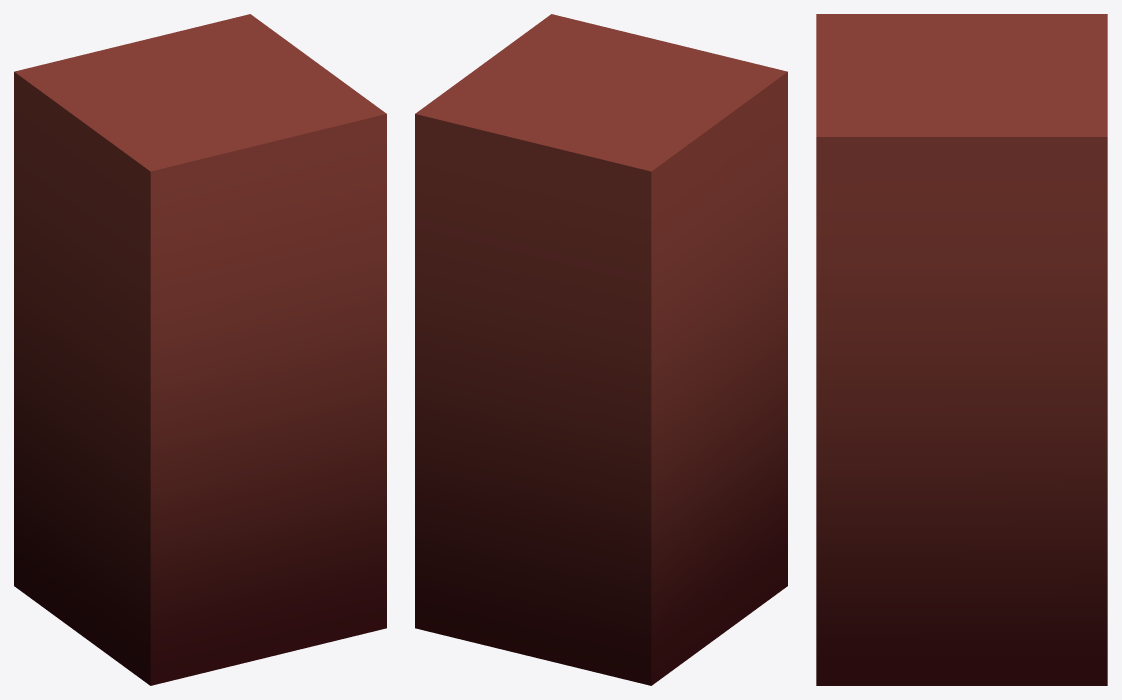
The picture shows the model from 3 angles, left to right: view 1: azimuth 30°, elevation 25°; view 2: azimuth 150°, elevation 25°; view 3: azimuth 270°, elevation 25°; orthographic projection. The views are drawn at different scales.
Visible parts, largest first — view 1: 终点; view 2: 终点; view 3: 终点.
Boxes of the visible parts, bbox=[...] form: 终点: bbox=[14, 14, 386, 685]; 终点: bbox=[415, 14, 787, 685]; 终点: bbox=[816, 14, 1107, 685].
Bounding box in the file's own units: 600 × 1248 × 600.
